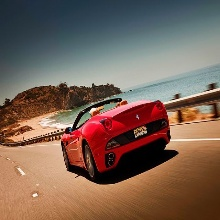no damage: (61, 98, 173, 177)
